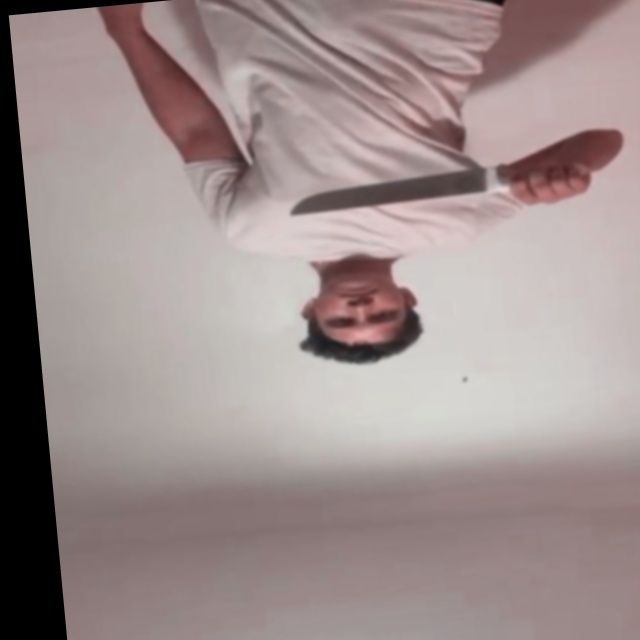Sharp-Object: (289, 166, 487, 219)
